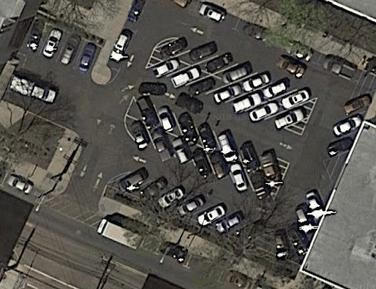parkingspot: (110, 169, 329, 259), (191, 0, 360, 83), (133, 94, 281, 183), (153, 35, 320, 110), (129, 116, 275, 201), (147, 57, 309, 131), (154, 239, 275, 289), (22, 15, 105, 77), (322, 94, 374, 164), (105, 0, 151, 73)
